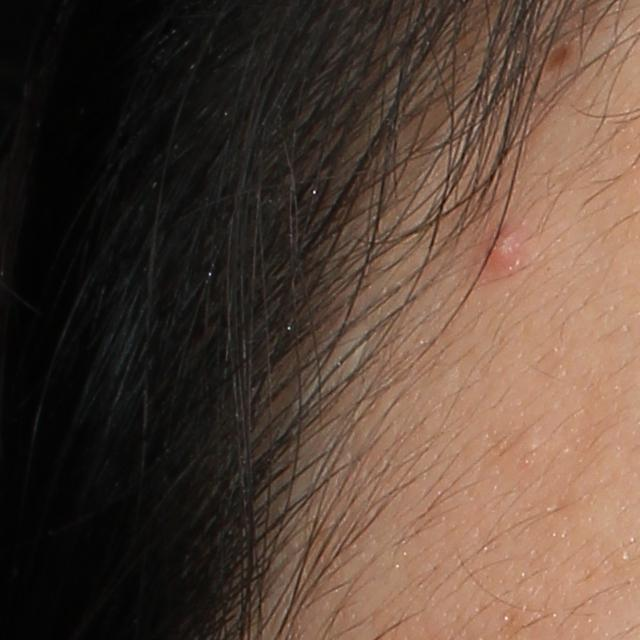papule: (478, 218, 527, 273)
